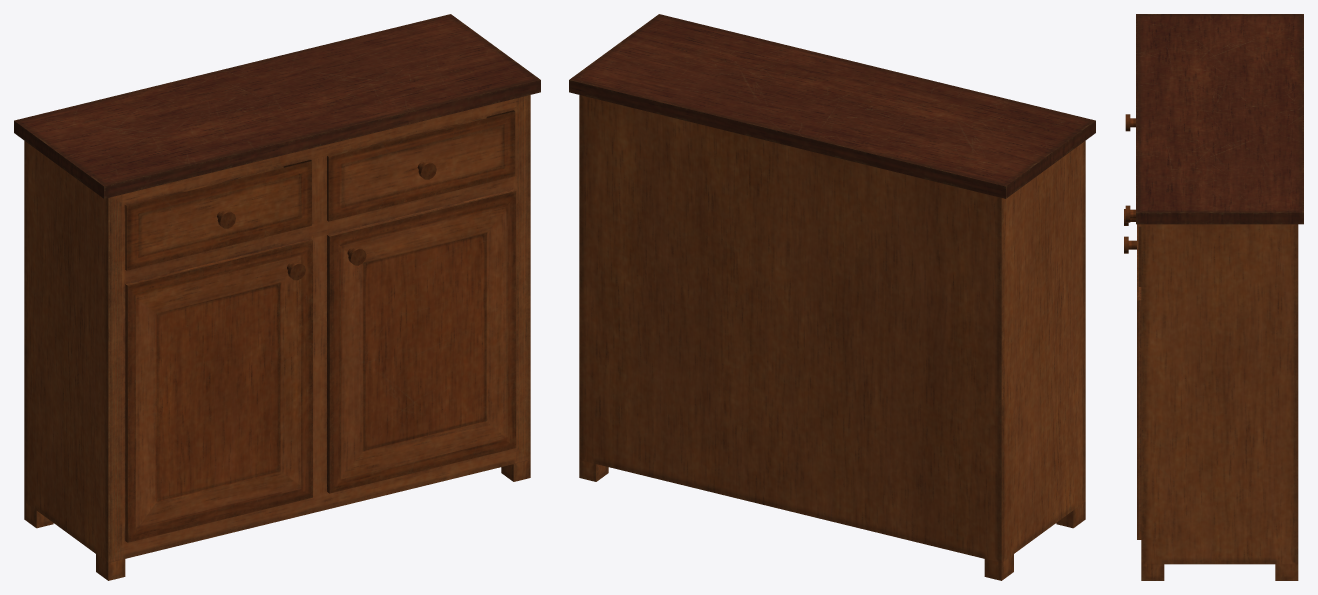
Rendered from kastWBlender 1.fbx.
3 views of the same model, side by side, from view 1: azimuth 30°, elevation 25°; view 2: azimuth 150°, elevation 25°; view 3: azimuth 270°, elevation 25° (orthographic). The views are drawn at different scales.
Visible parts, largest first — view 1: Cabinet4, Cabinet4.003, Cabinet4.004, Cabinet4.002, Cabinet4.001; view 2: Cabinet4; view 3: Cabinet4, Cabinet4.003, Cabinet4.002.
Boxes of the visible parts, <box> form: Cabinet4: <box>14,14,540,580</box>; Cabinet4.003: <box>327,189,516,493</box>; Cabinet4.004: <box>125,239,312,542</box>; Cabinet4.002: <box>327,110,515,221</box>; Cabinet4.001: <box>125,160,311,270</box>; Cabinet4: <box>569,14,1095,580</box>; Cabinet4: <box>1136,14,1303,580</box>; Cabinet4.003: <box>1124,224,1141,539</box>; Cabinet4.002: <box>1125,205,1141,286</box>.
Bounding box in the file's own units: 89.93 × 78.37 × 34.4.
